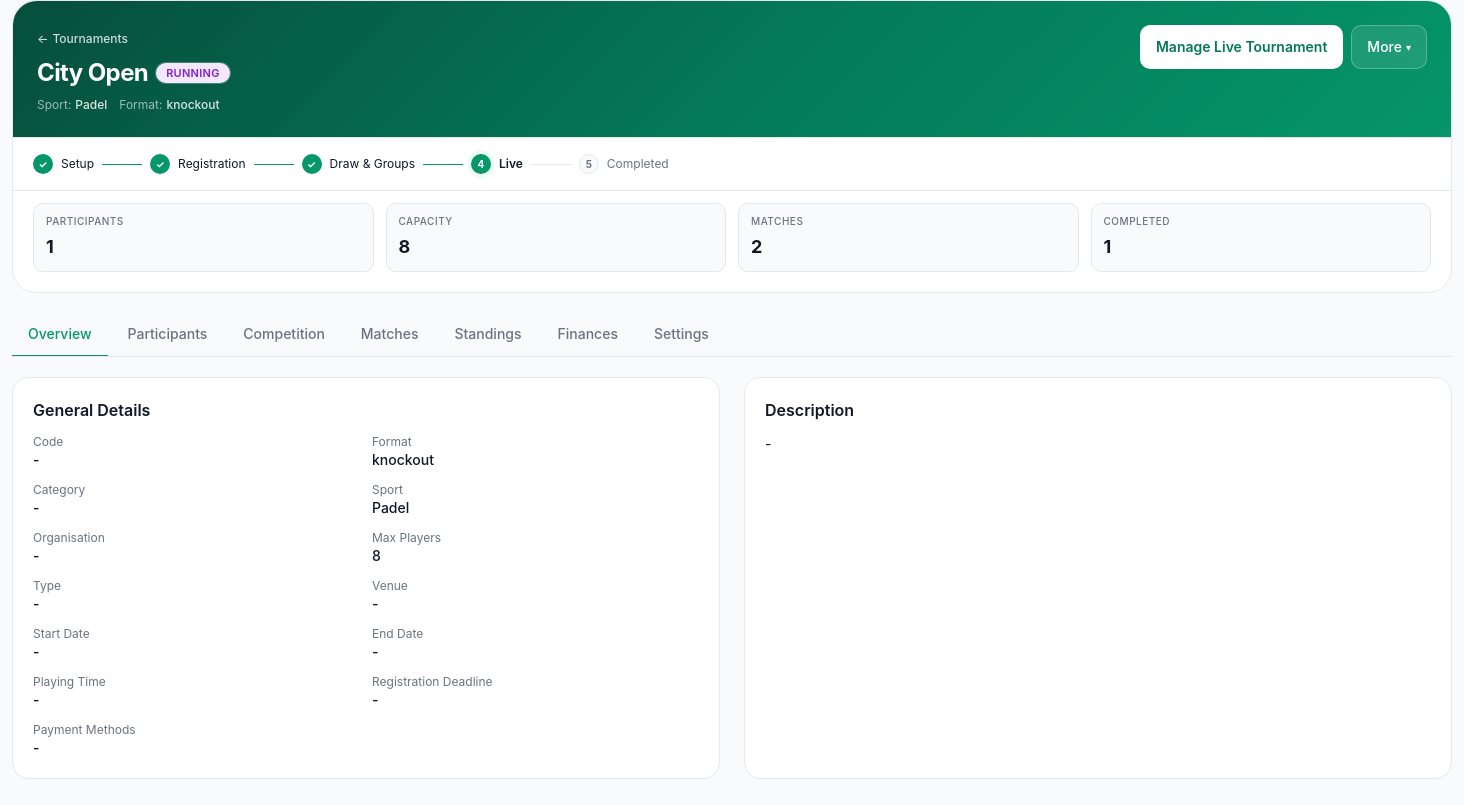
Test: Admin / Super Admin tournament detail — shared bracket tab › renders the shared bracket visual alongside the kept administrative matches table
expect the heading "City Open" is shown: met, box [37, 57, 148, 89]
// The administrative matches table is NOT removed — it lives in the Matches section.
Click the tab "Matches" at (390, 335), box [345, 313, 434, 357]
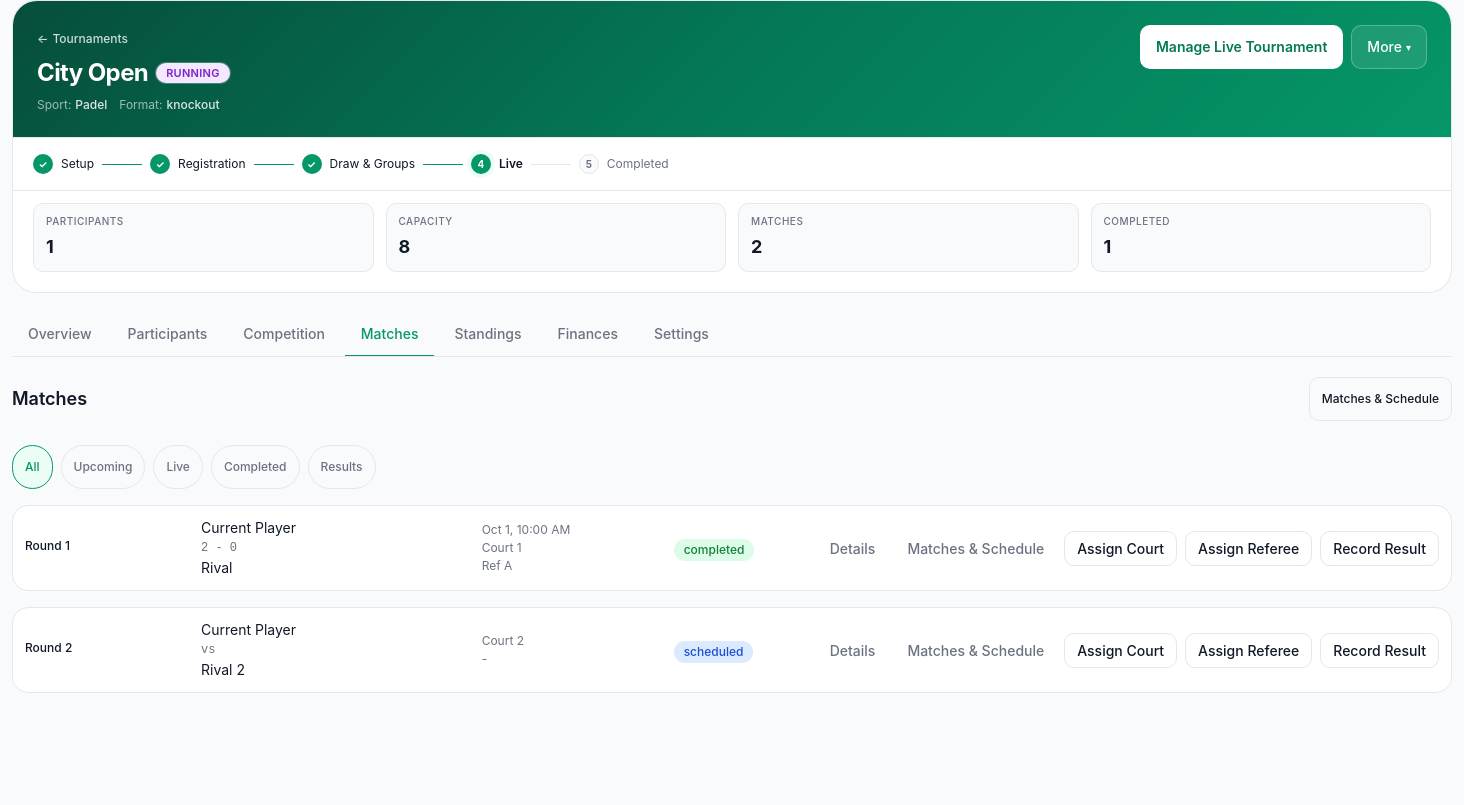
expect the text "Current Player" next to "Oct 1, 10:00 AM" is shown: met, box [201, 519, 296, 536]
// The shared bracket is inside the Competition section (Bracket sub-tab).
Click the tab "Competition" at (284, 335), box [227, 313, 341, 357]
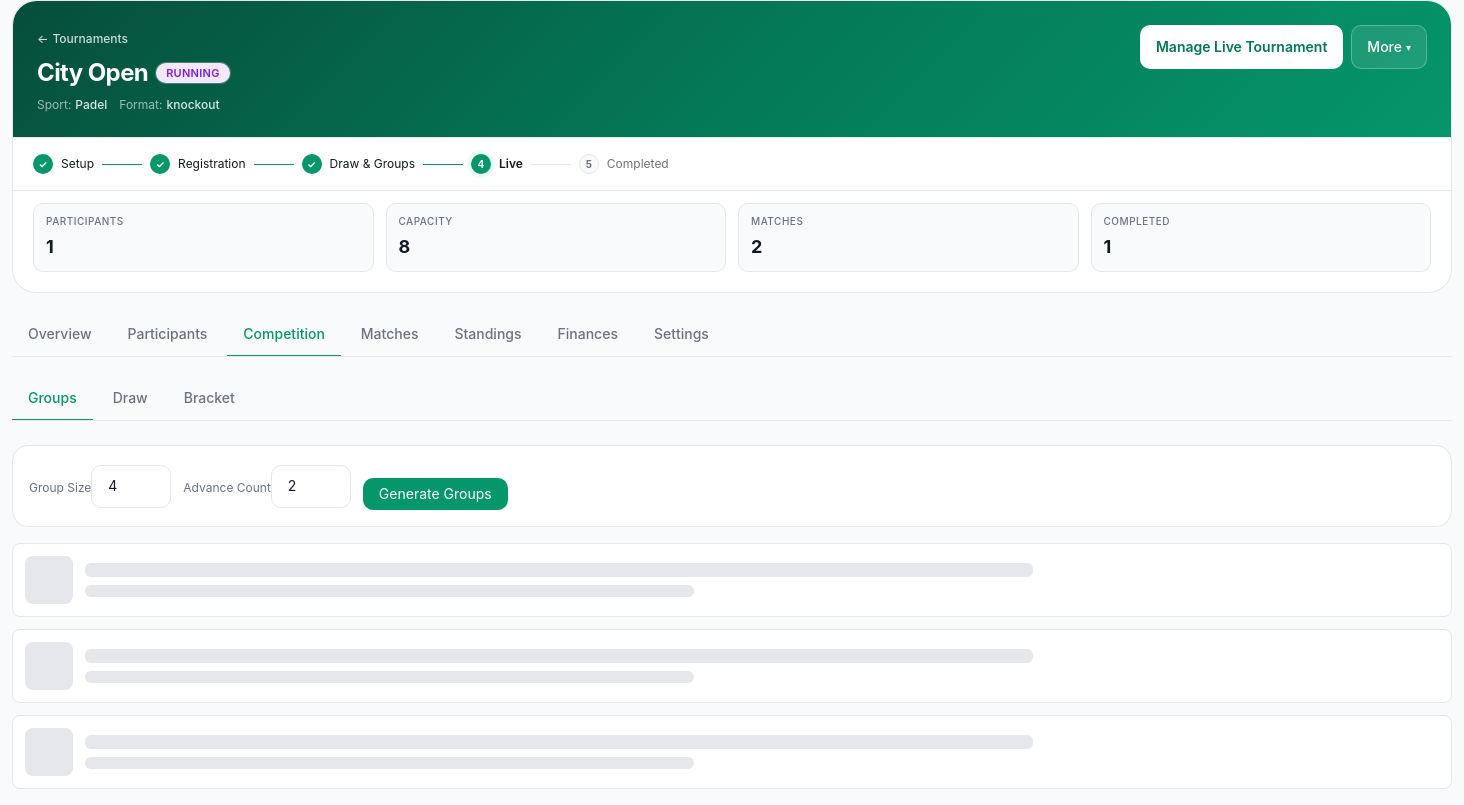
Click the tab "Bracket" at (209, 399), box [168, 377, 251, 421]
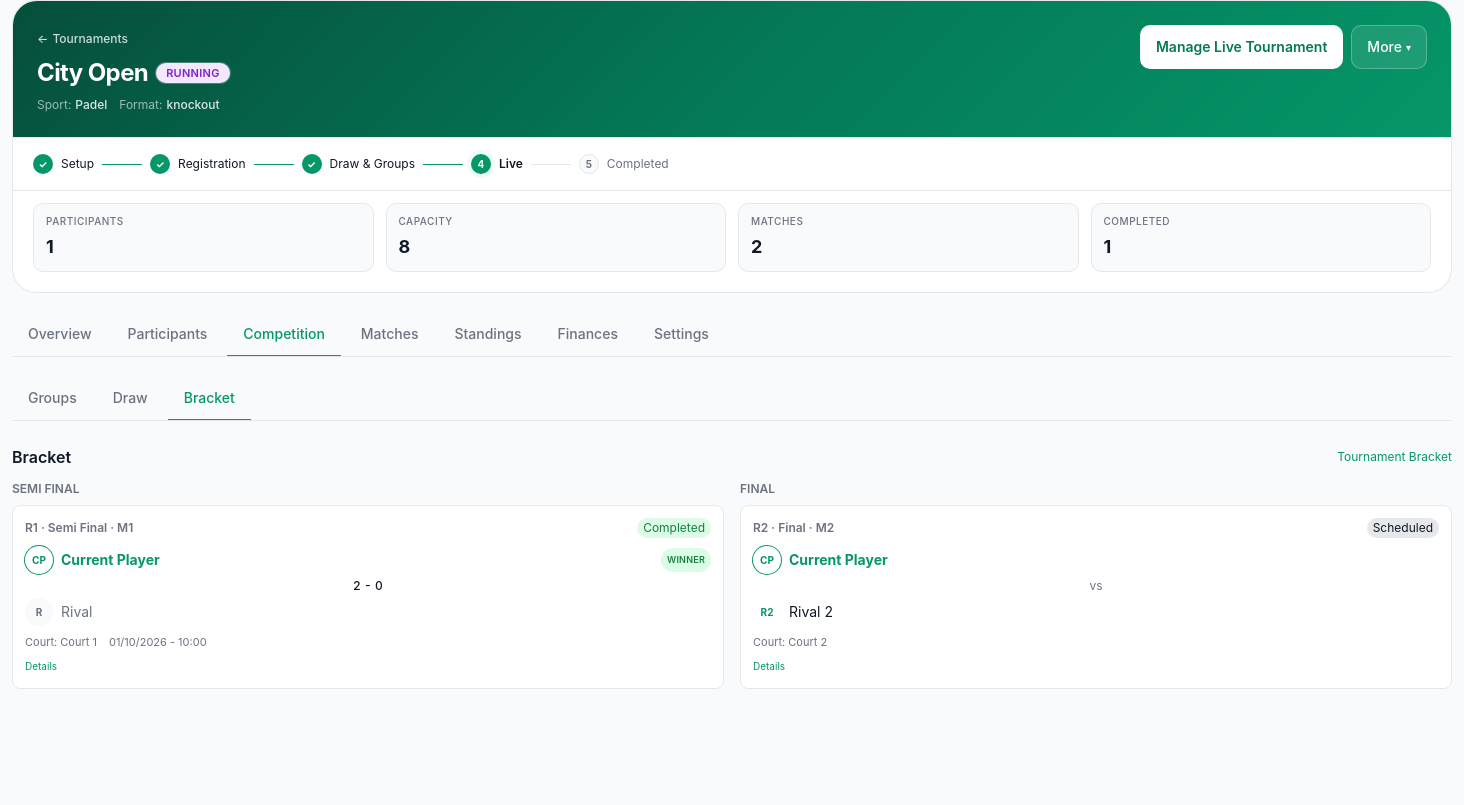
expect the 1st text "Current Player" is shown: met, box [61, 551, 160, 568]
expect the text "2 - 0" is shown: met, box [353, 578, 383, 593]
